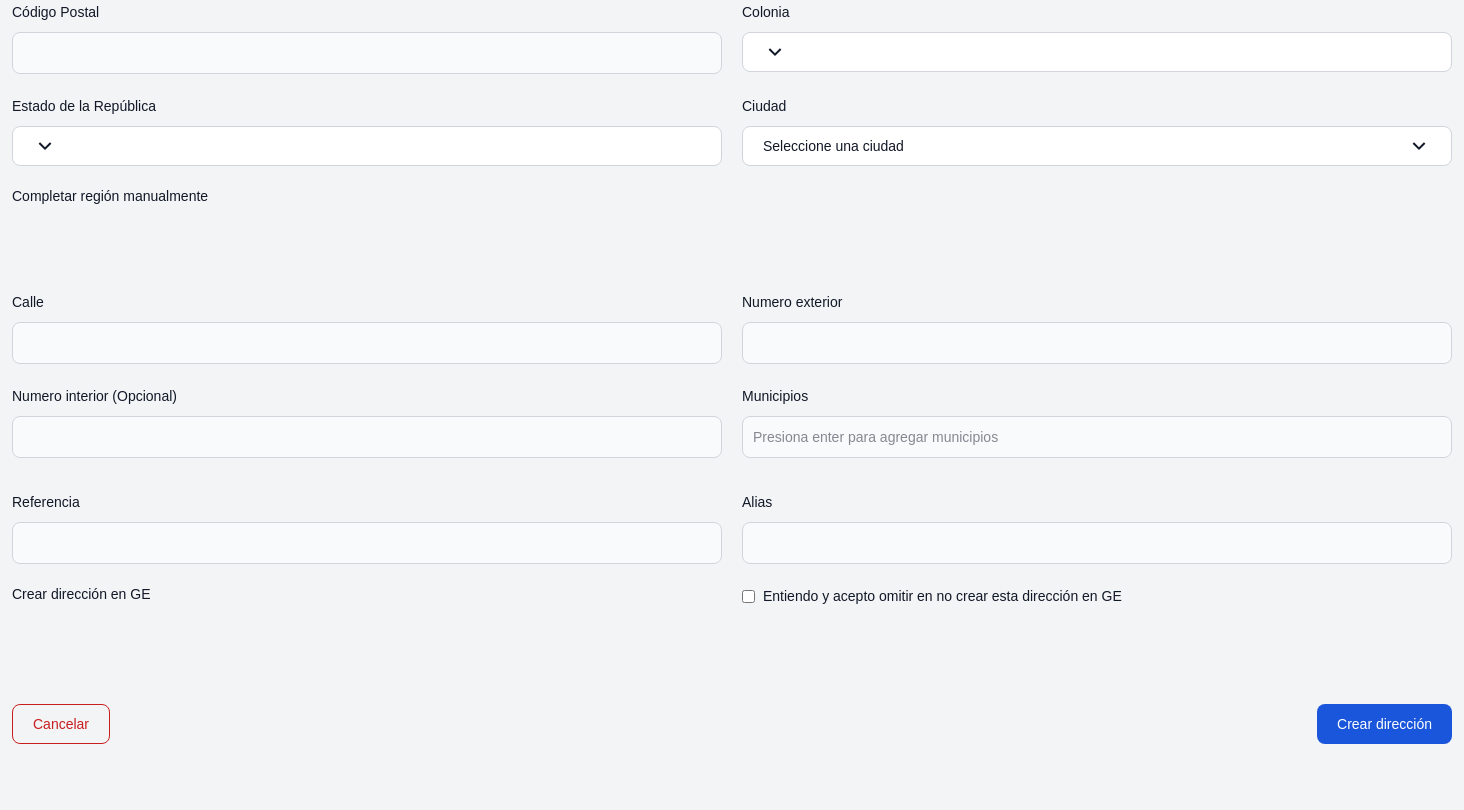
Test: Feature: Create Address Subform › Scenario: Toggle GE address creation shows consent checkbox › Given the GE toggle is off, When the user toggles it on, Then the consent checkbox should not be visible
Click the switch labelled "Crear dirección en GE" at (81, 594), box [12, 584, 722, 608]
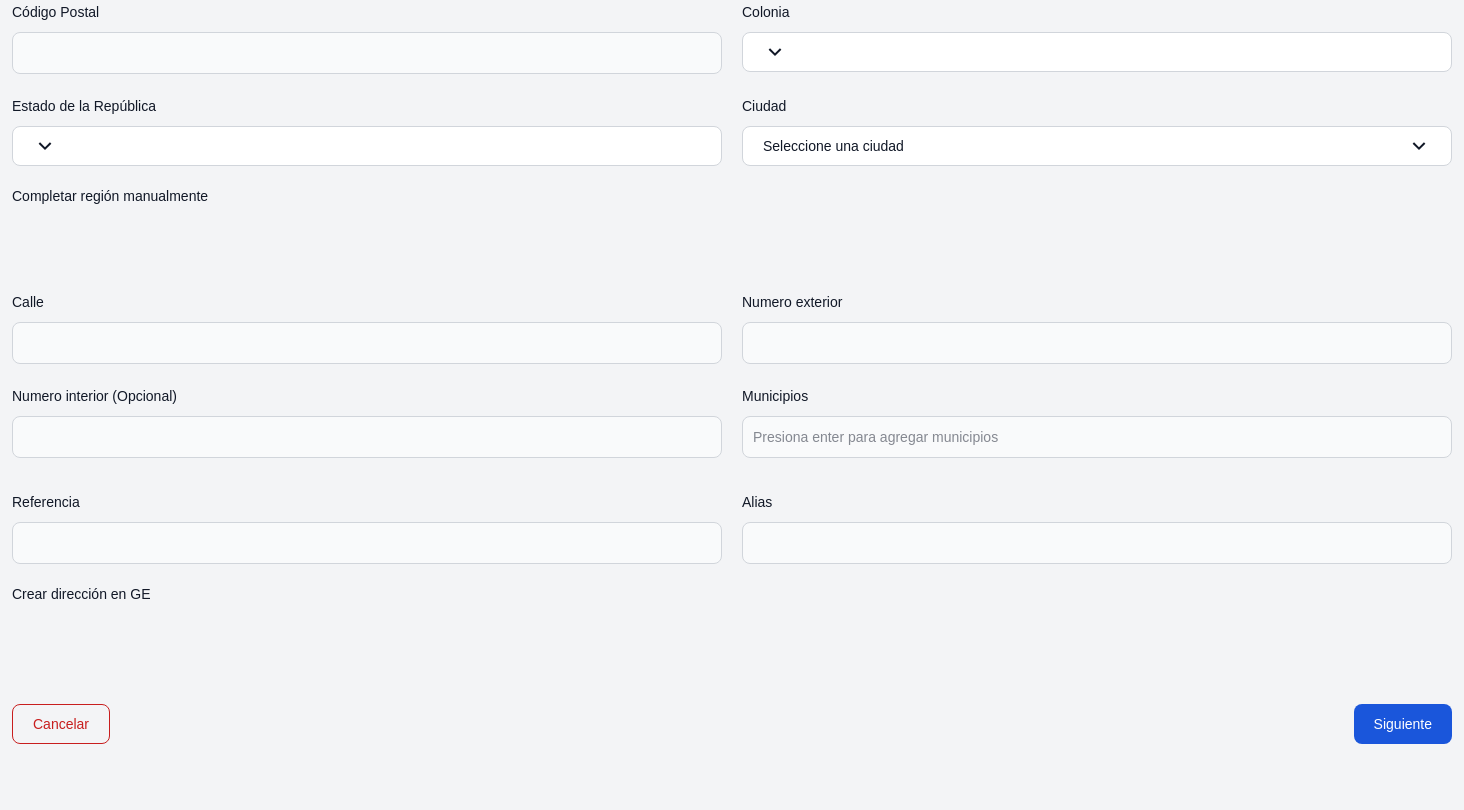
Expected: the label labelled "Entiendo y acepto omitir en no crear esta dirección en GE" is gone
